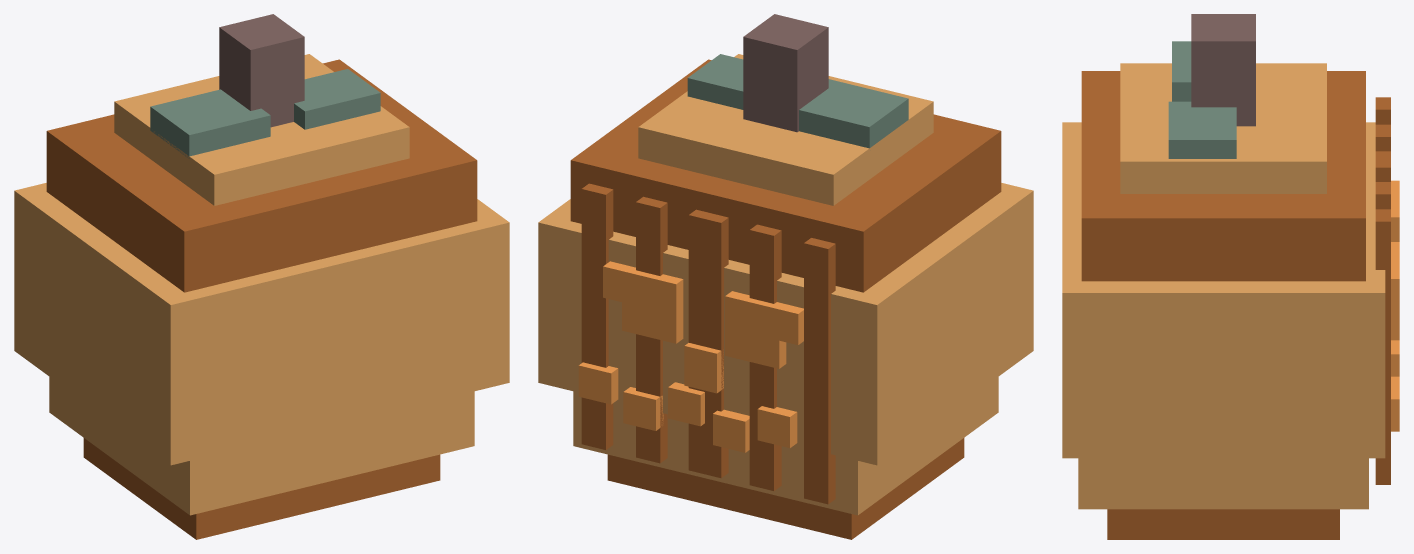
File: carved_pumpkin.glb
3 views of the same model, side by side, from view 1: azimuth 30°, elevation 25°; view 2: azimuth 150°, elevation 25°; view 3: azimuth 270°, elevation 25° (orthographic). The views are drawn at different scales.
Visible parts, largest first — view 1: Moonpost Carved Pumpkin Polished; view 2: Moonpost Carved Pumpkin Polished; view 3: Moonpost Carved Pumpkin Polished.
Part boxes in pixels (x1,y1,x2,y2): Moonpost Carved Pumpkin Polished: [14, 14, 509, 539]; Moonpost Carved Pumpkin Polished: [538, 14, 1033, 539]; Moonpost Carved Pumpkin Polished: [1062, 14, 1399, 539].
Size of the model in its own units: 2.5 by 3.08 by 2.09.
